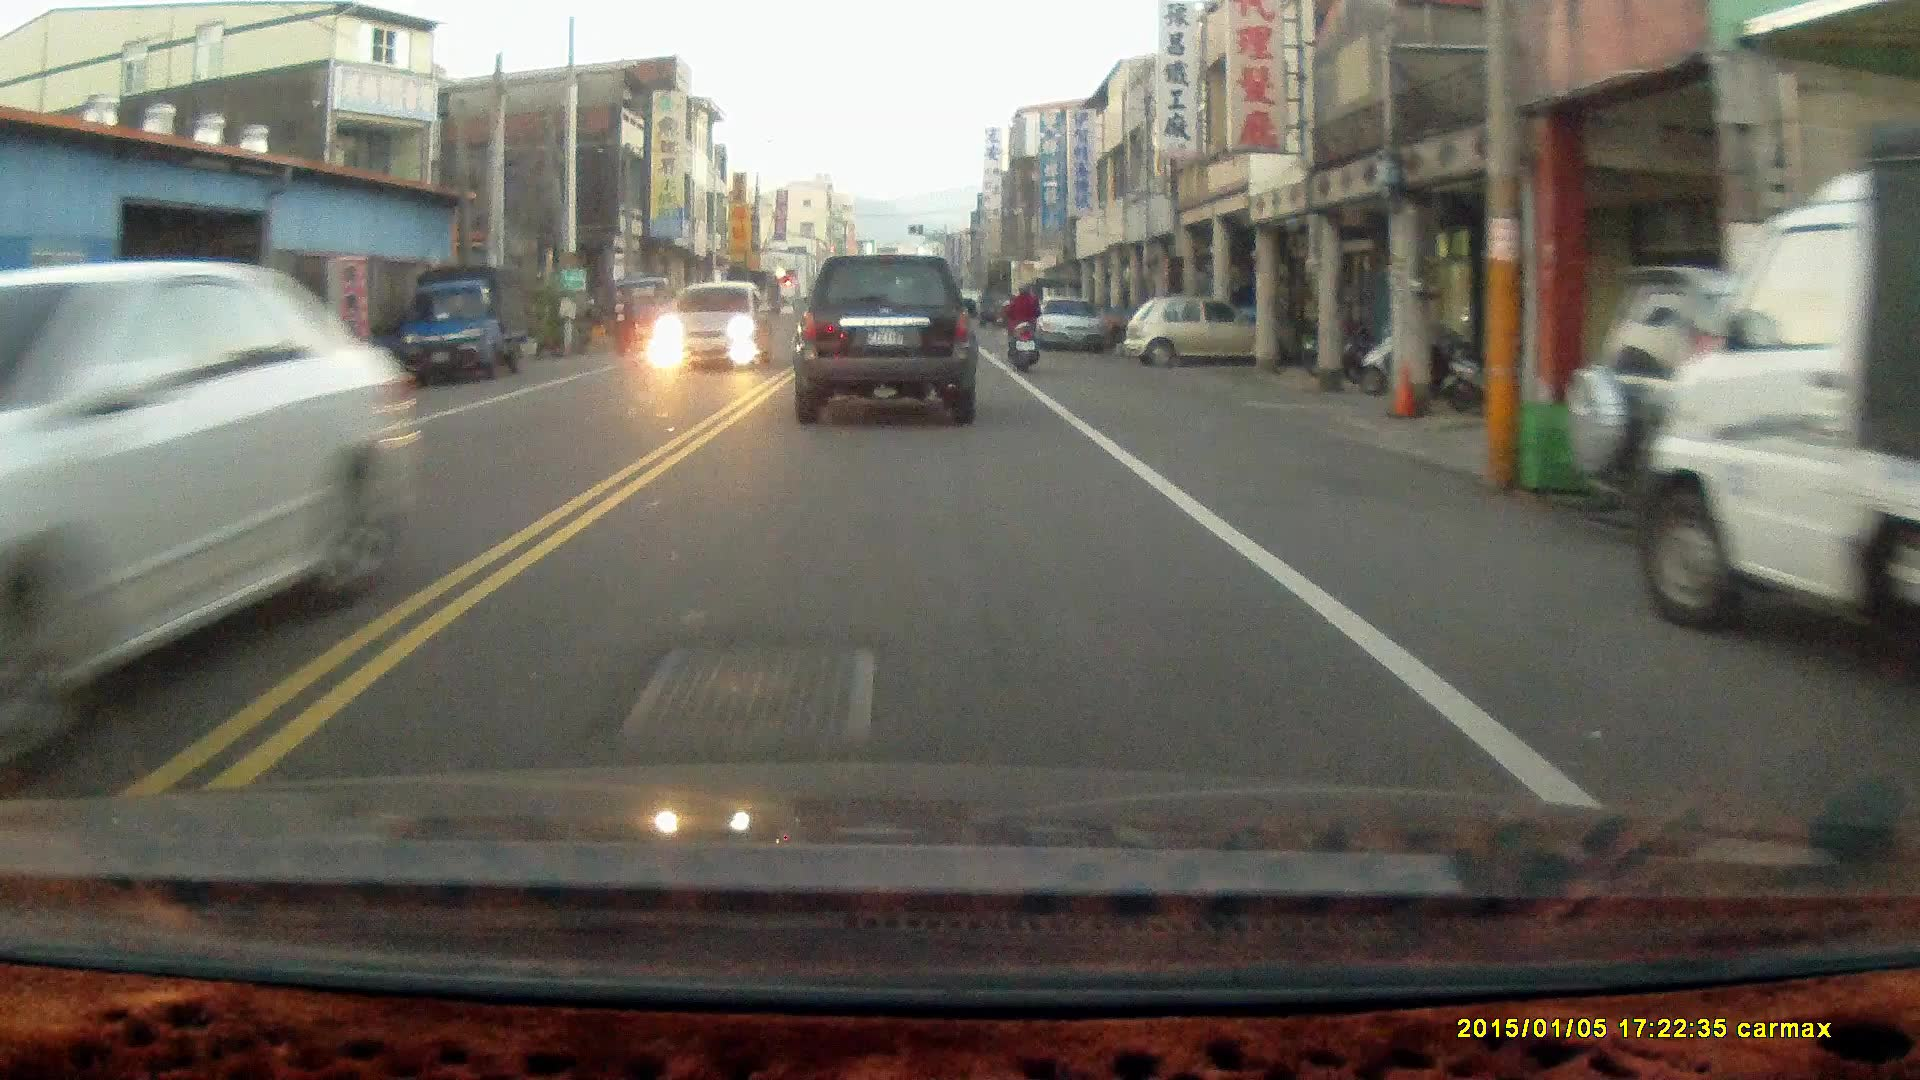pedestrian: (610, 288, 630, 351)
rider: (1005, 280, 1042, 375)
vehicle: (1, 262, 406, 726), (1630, 142, 1920, 696), (1562, 268, 1919, 553), (787, 256, 980, 429), (399, 268, 542, 388), (1124, 298, 1277, 372), (657, 281, 778, 372), (1034, 296, 1109, 356)
